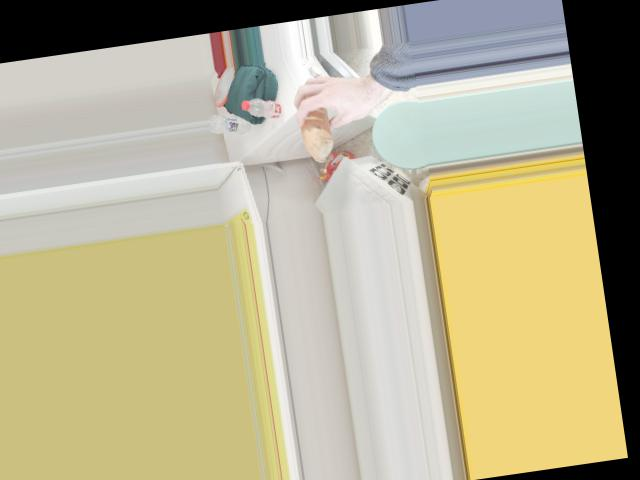sweet_potato: (297, 104, 333, 152)
